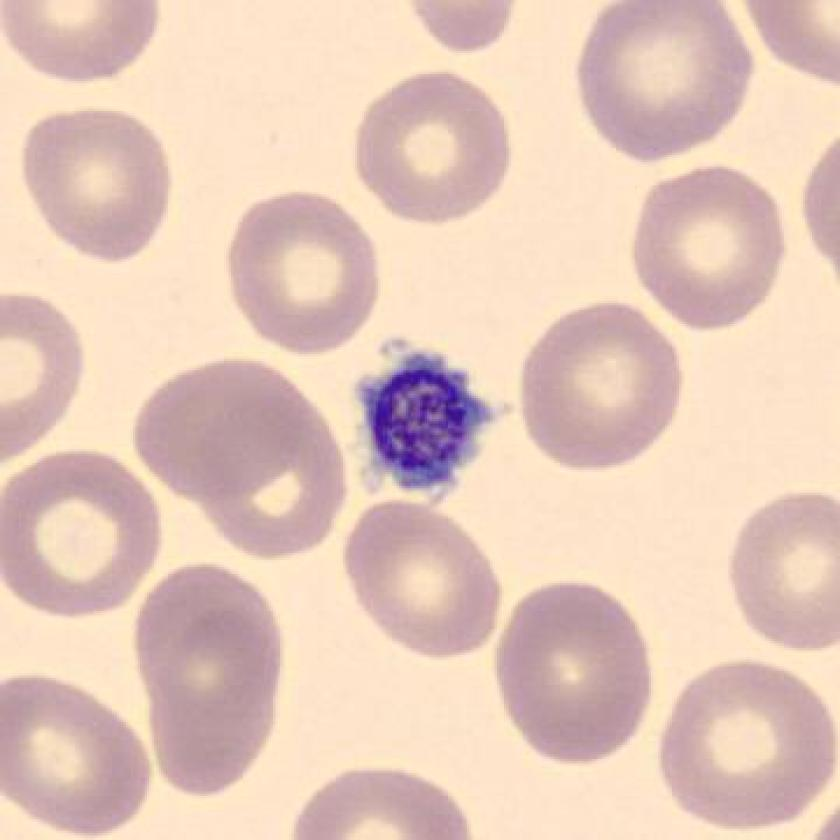platelets: (347, 346, 501, 512)
